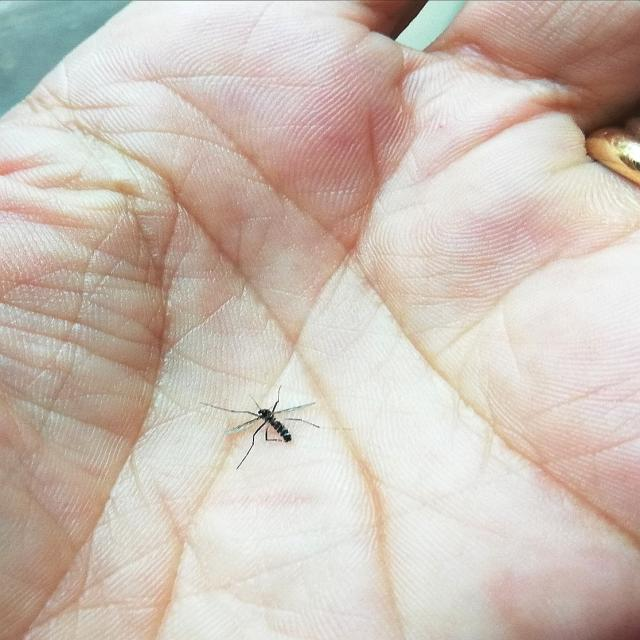albopictus: (194, 381, 330, 471)
